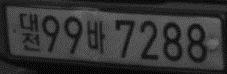2: (139, 19, 158, 60)
7: (114, 19, 135, 58)
8: (186, 22, 208, 63), (162, 21, 182, 61)
9: (63, 15, 83, 54), (41, 14, 60, 52)
대전_V: (18, 11, 41, 52)
바: (86, 19, 106, 53)
